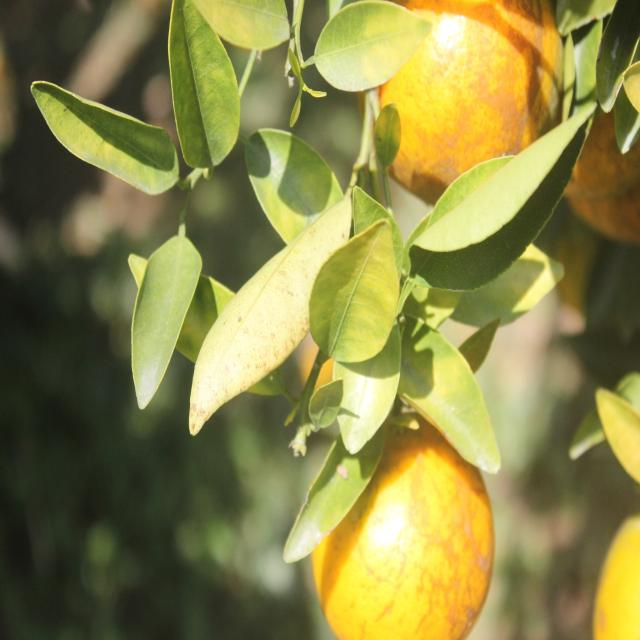melanose: (182, 201, 348, 441)
